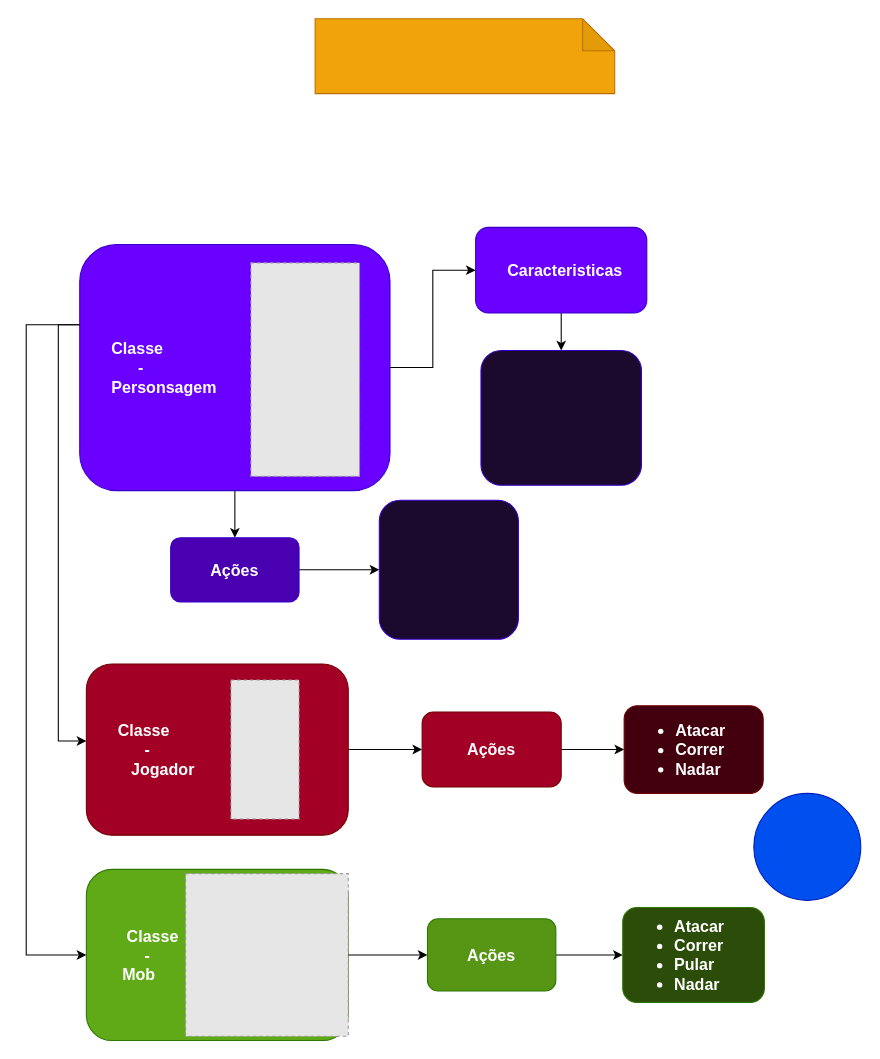
Some shapes in this 880 by 1059 pixel diagram are drawn without their labels. Grey dashed boxes stand in for pictures. The shapes that lost their labels are listed below. From the top down, each one's centre as x and y in pixels, then its label:
point 464,56: PILAR - Poliformismo
point 560,417: Nome Vida Ataque Itens Experiência
point 448,569: Andar Correr Pular Atacar Nadar
point 807,846: Ações a serem sobreescritas
